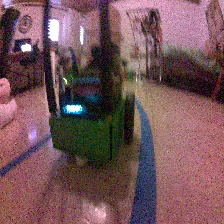rob: (47, 42, 136, 166)
